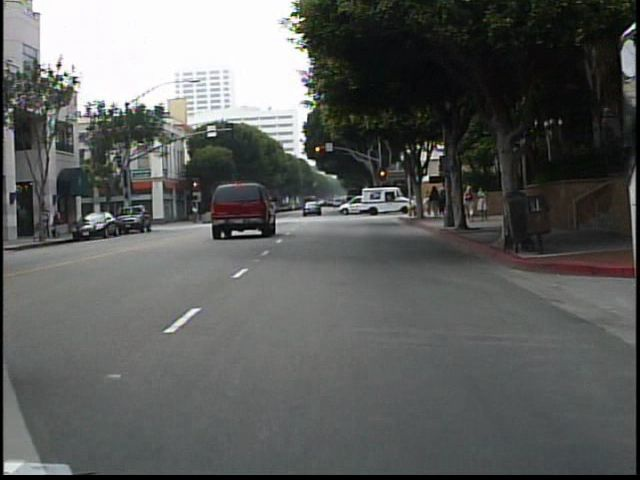person: (475, 181, 489, 223), (463, 183, 475, 222)
